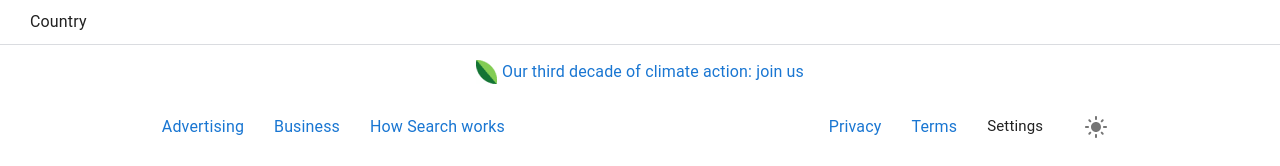
Theme › change theme by clicking change theme button
What coordinates should you click on to do the following:
click the button with test id "LightModeIcon"
I would click on:
 (1096, 126)
Its box is x1=1073 y1=104 x2=1118 y2=149.
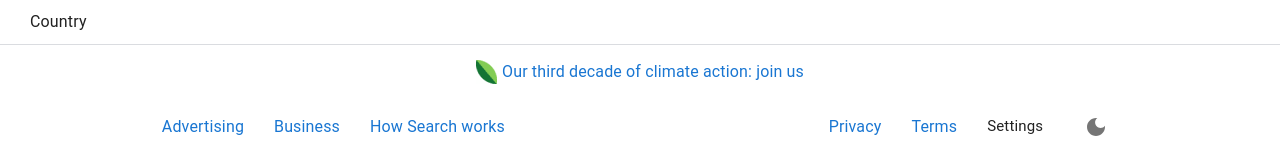
Expected: the icon with test id "LightModeIcon" is gone
Expected: the icon with test id "DarkModeIcon" is shown, x1=1084 y1=114 x2=1108 y2=138
